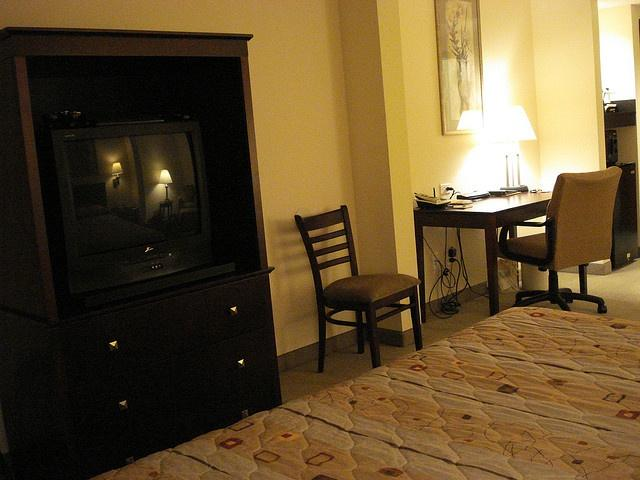Kursi: (293, 203, 422, 372), (497, 165, 620, 313)
Meja: (412, 186, 552, 233)
